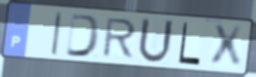D: (63, 12, 102, 59)
I: (49, 10, 64, 58)
L: (176, 21, 202, 67)
R: (100, 17, 139, 61)
U: (135, 16, 176, 66)
X: (209, 23, 245, 69)
